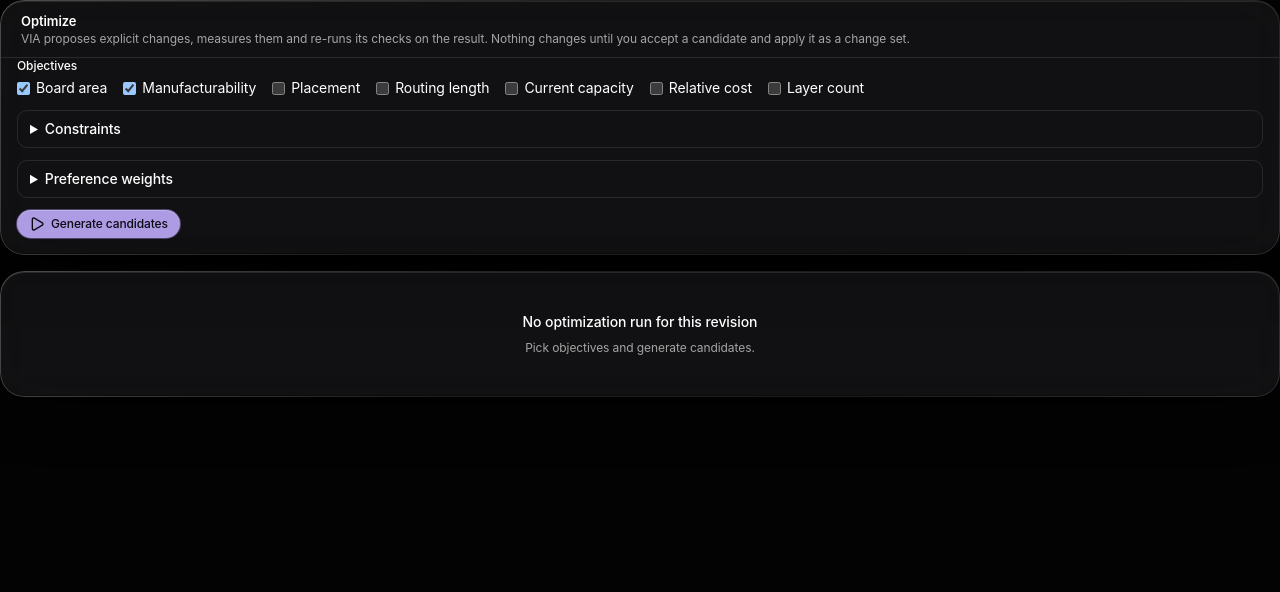
Scenario: OptimizePanel › asks the owner for consent before pricing and never offers a quantity without it
Click the checkbox labelled "Relative cost".
click(656, 88)  # box [650,82,663,95]
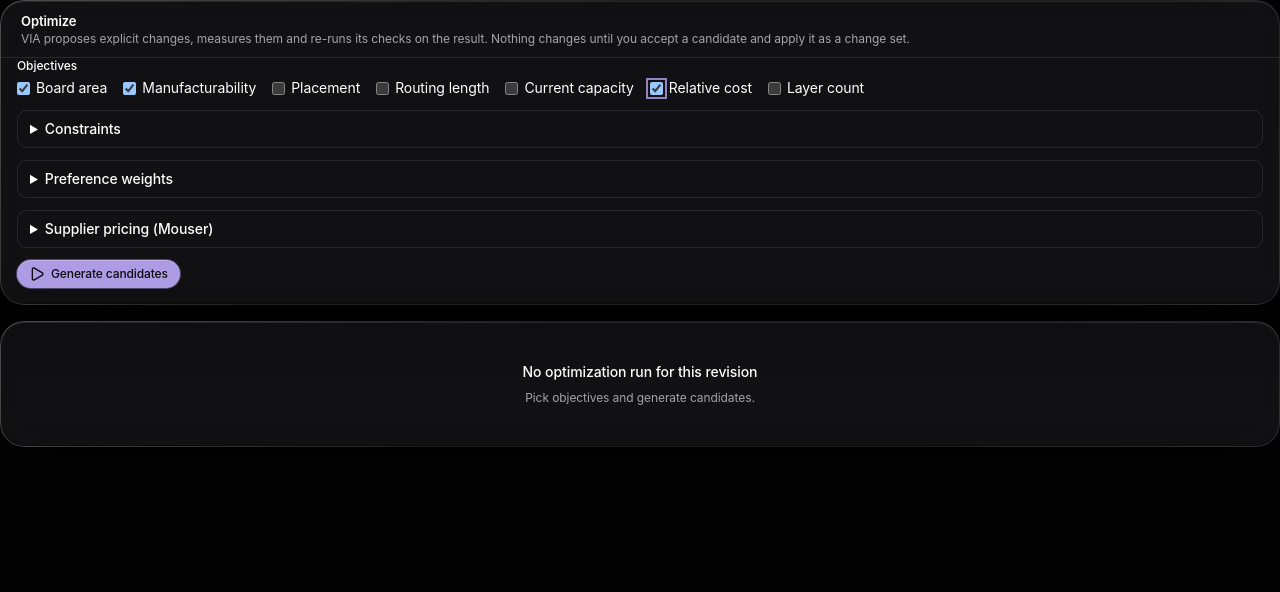
Click the heading "Supplier pricing (Mouser)".
click(129, 229)  # box [45,220,213,237]
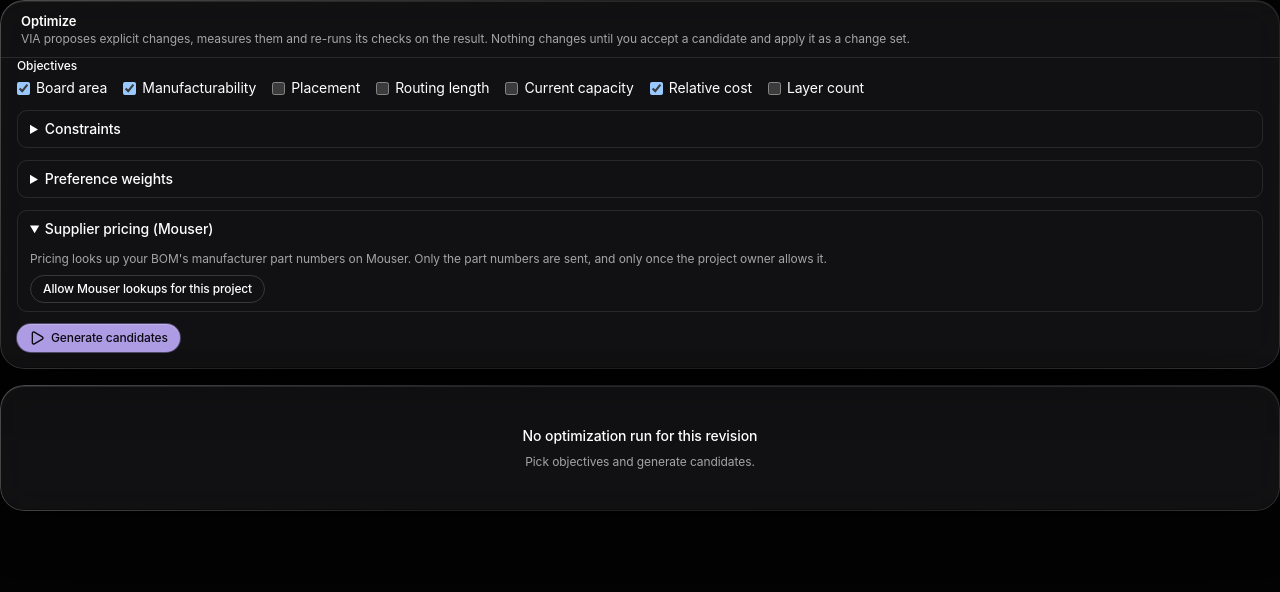
expect the field labelled "Boards to build" is not shown: met
Click the button "Allow Mouser lookups for this project".
click(148, 289)  # box [30,275,265,303]
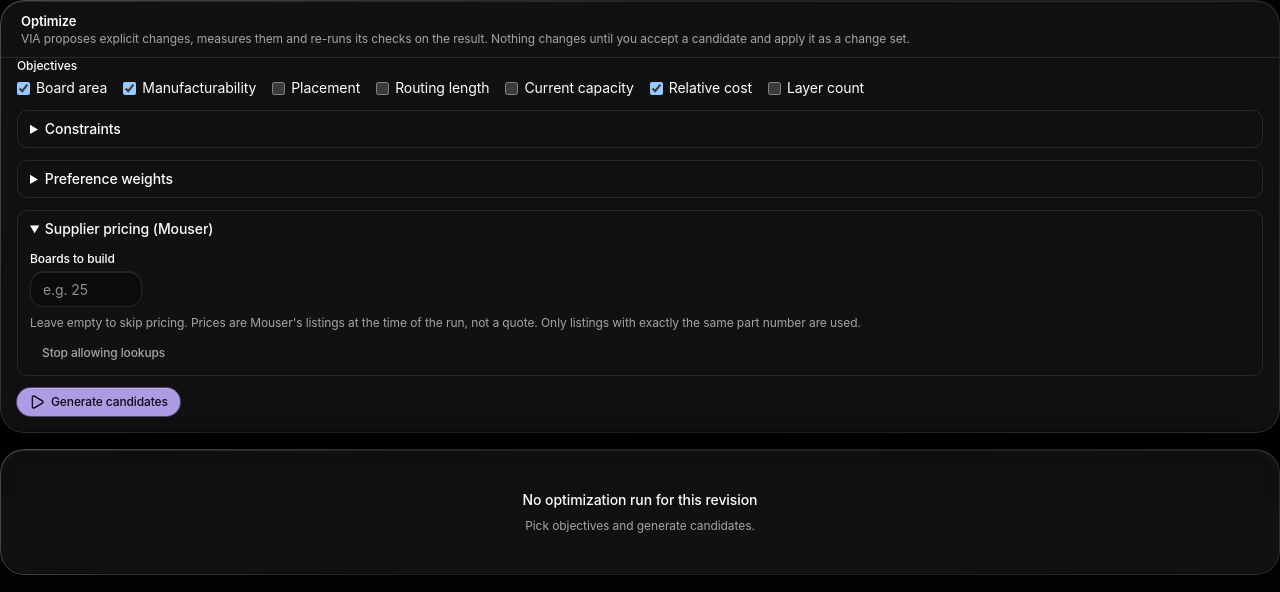
expect the field labelled "Boards to build" is shown: met, box [30,271,142,307]
